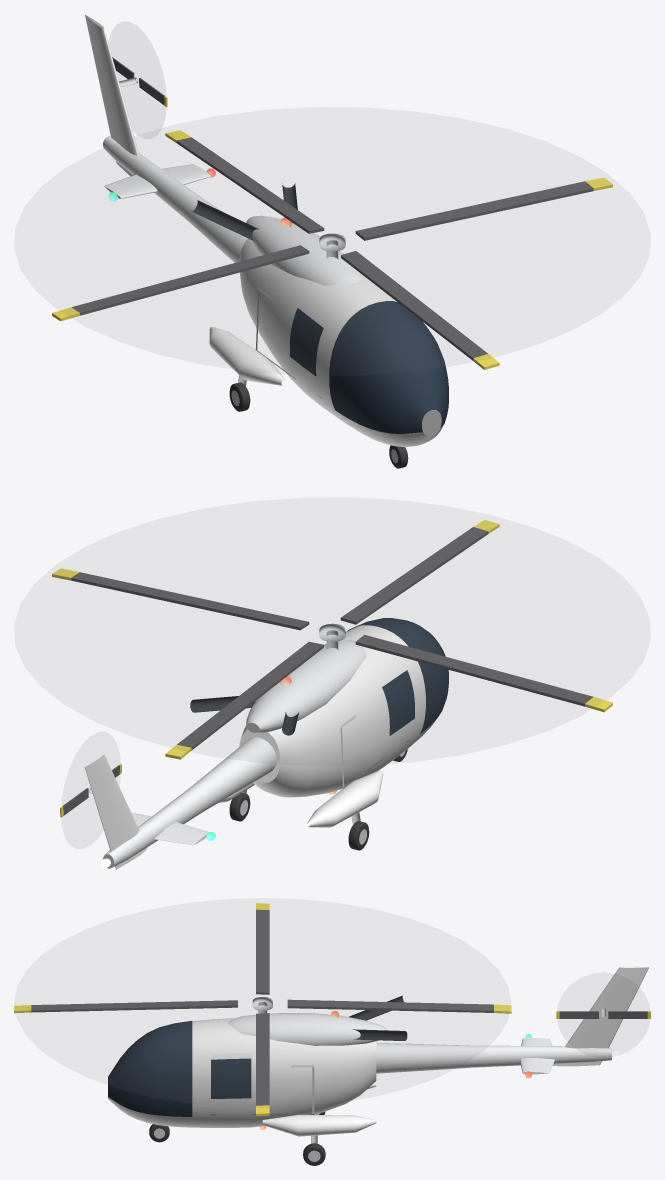
3 views of the same model, one above another, from view 1: azimuth 30°, elevation 25°; view 2: azimuth 150°, elevation 25°; view 3: azimuth 270°, elevation 25° (orthographic). The views are drawn at different scales.
Parts seen in each view (by area): view 1: airframe, rotor; view 2: airframe, rotor; view 3: airframe, rotor, tail.
Boxes of the visible parts, <box> form: airframe: <box>84,14,448,468</box>; rotor: <box>52,130,612,369</box>; airframe: <box>84,618,448,869</box>; rotor: <box>52,520,612,759</box>; airframe: <box>108,966,648,1165</box>; rotor: <box>14,903,511,1115</box>; tail: <box>556,1011,650,1018</box>.
Size of the model in its own units: 12.1 by 4.79 by 15.49.
